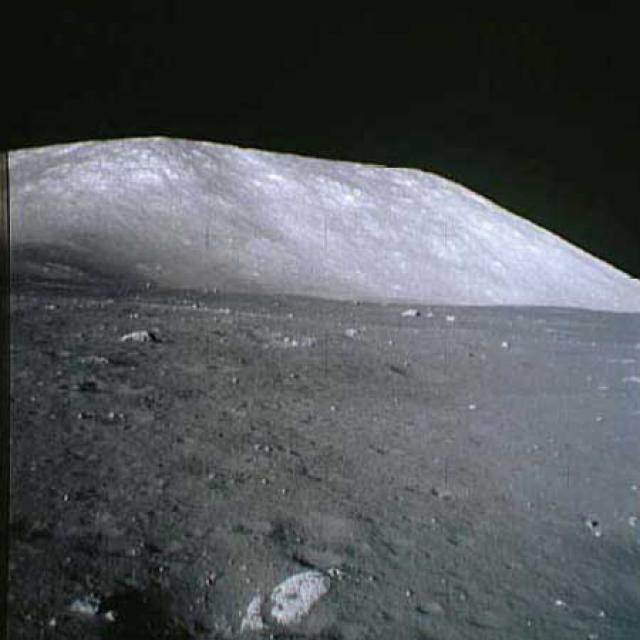crater: (244, 321, 316, 349), (390, 361, 450, 386)
rock: (269, 571, 335, 621), (111, 324, 166, 344), (396, 307, 421, 317)
